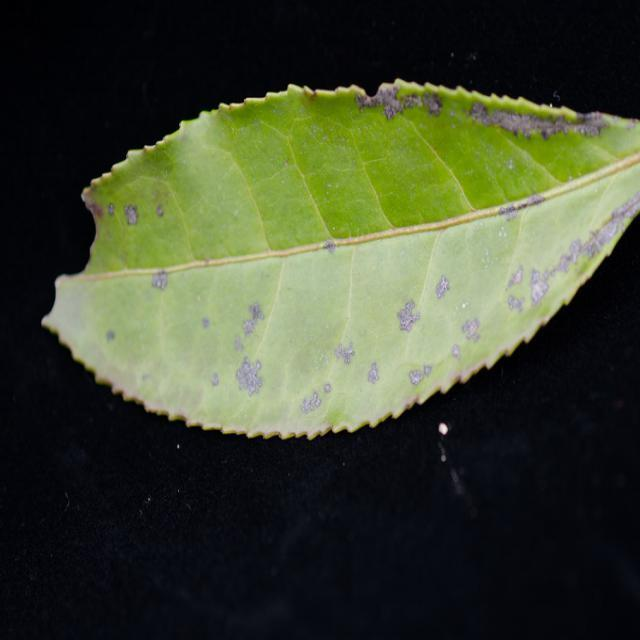Tea red rust: (65, 93, 596, 412)
